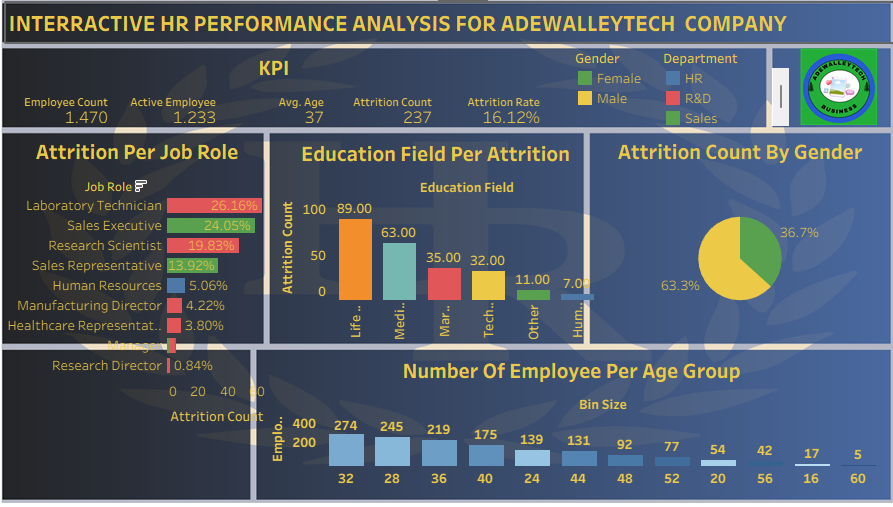

This screenshot's page, from the dashboard's own definition file:
{"tool":"tableau","page":{"name":"Dashboard 1","canvas":[1000,1000],"units":"permille","ordinal":0},"visuals":[{"type":"image","param":"Image/Slide5.PNG","box":[6.7,15.2,986.7,969.7]},{"type":"text","box":[16.7,30.3,762.5,73.9]},{"type":"image","param":"Image/My CM Logo.jpg","box":[678.3,115.6,224.2,145]},{"type":"worksheet","title":"KPI","mark":"Automatic","box":[15,117.4,450,140.2]},{"type":"legend","title":"Attrition Count By Gender","param":"[federated.0w9divp05mzfhv1ajdjpr04ffxcq].[none:Gender:nk]","box":[490.8,117.4,151.7,149.6]},{"type":"legend","title":"Attrition Per Job Role","param":"[federated.0w9divp05mzfhv1ajdjpr04ffxcq].[none:Department:nk]","box":[564.2,117.4,106.7,145]},{"type":"worksheet","title":"Attrition Count By Gender","mark":"Pie","box":[504.2,276.5,248.3,395.8]},{"type":"worksheet","title":"Attrition Per Job Role","mark":"Automatic","rows":["Job Role"],"cols":["Calculation_79938952628264960"],"box":[17.5,277.1,216.7,688.1]},{"type":"worksheet","title":"Education Field Per Attrition","mark":"Automatic","rows":["Calculation_79938952628264960"],"cols":["Education Field"],"box":[237.5,280.7,274.2,390.8]},{"type":"worksheet","title":"Number Of Employee Per Age Group","mark":"Automatic","rows":["Employee Count"],"cols":["Age (bin)"],"box":[229.2,691.3,517.5,259.5]}]}

Visuals, with their boxes on the dashboard's canvas, which has no fixed pixel size, in thousandths of its width and height (x1, y1, x2, y2). These are canvas units, not pixel positions in the 893x507 screenshot, which may show the page scaled, cropped or inside an application window:
image: [7,15,993,985]
text: [17,30,779,104]
image: [678,116,902,261]
"KPI" worksheet: [15,117,465,258]
"Attrition Count By Gender" legend: [491,117,642,267]
"Attrition Per Job Role" legend: [564,117,671,262]
"Attrition Count By Gender" worksheet (Pie marks): [504,276,752,672]
"Attrition Per Job Role" worksheet: [18,277,234,965]
"Education Field Per Attrition" worksheet: [238,281,512,672]
"Number Of Employee Per Age Group" worksheet: [229,691,747,951]
